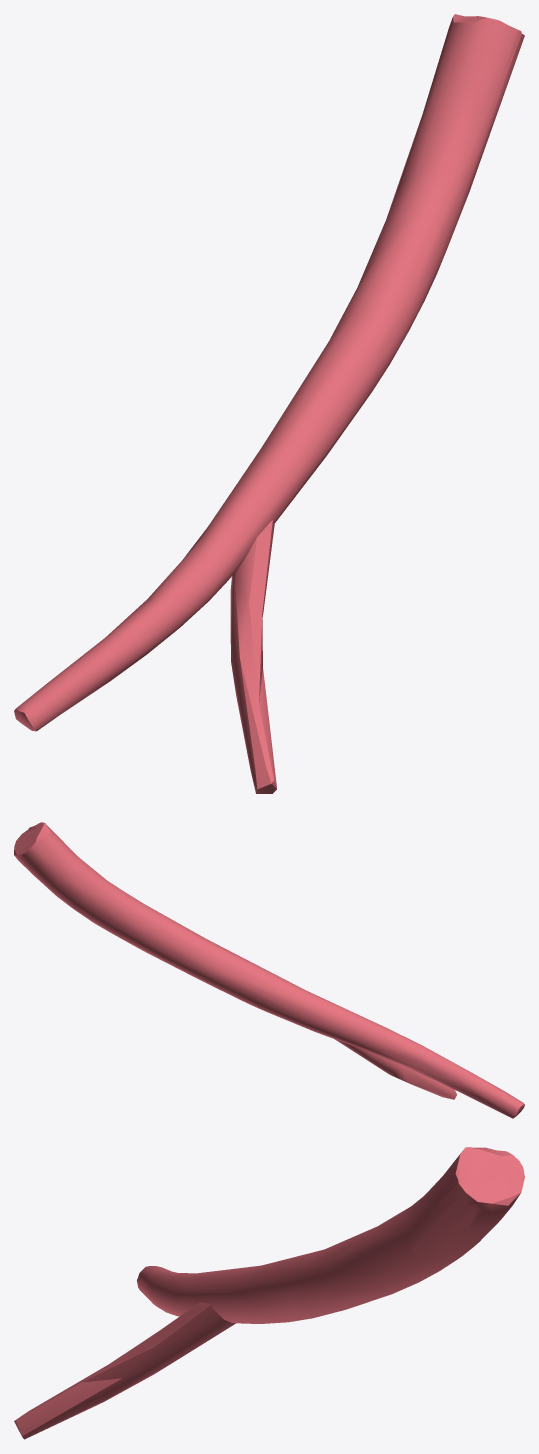
Rendered from fma68691_cx181.glb.
The picture shows the model from 3 angles, top to bottom: view 1: azimuth 30°, elevation 25°; view 2: azimuth 150°, elevation 25°; view 3: azimuth 270°, elevation 25°; orthographic projection. The views are drawn at different scales.
Parts seen in each view (by area): view 1: FMA68691_CX181; view 2: FMA68691_CX181; view 3: FMA68691_CX181.
Boxes of the visible parts, box(x1,y1,x2,y2) form: FMA68691_CX181: box(14, 14, 524, 793); FMA68691_CX181: box(14, 822, 524, 1118); FMA68691_CX181: box(14, 1147, 524, 1439).
Bounding box in the file's own units: 0.0611 × 0.0444 × 0.0408.
